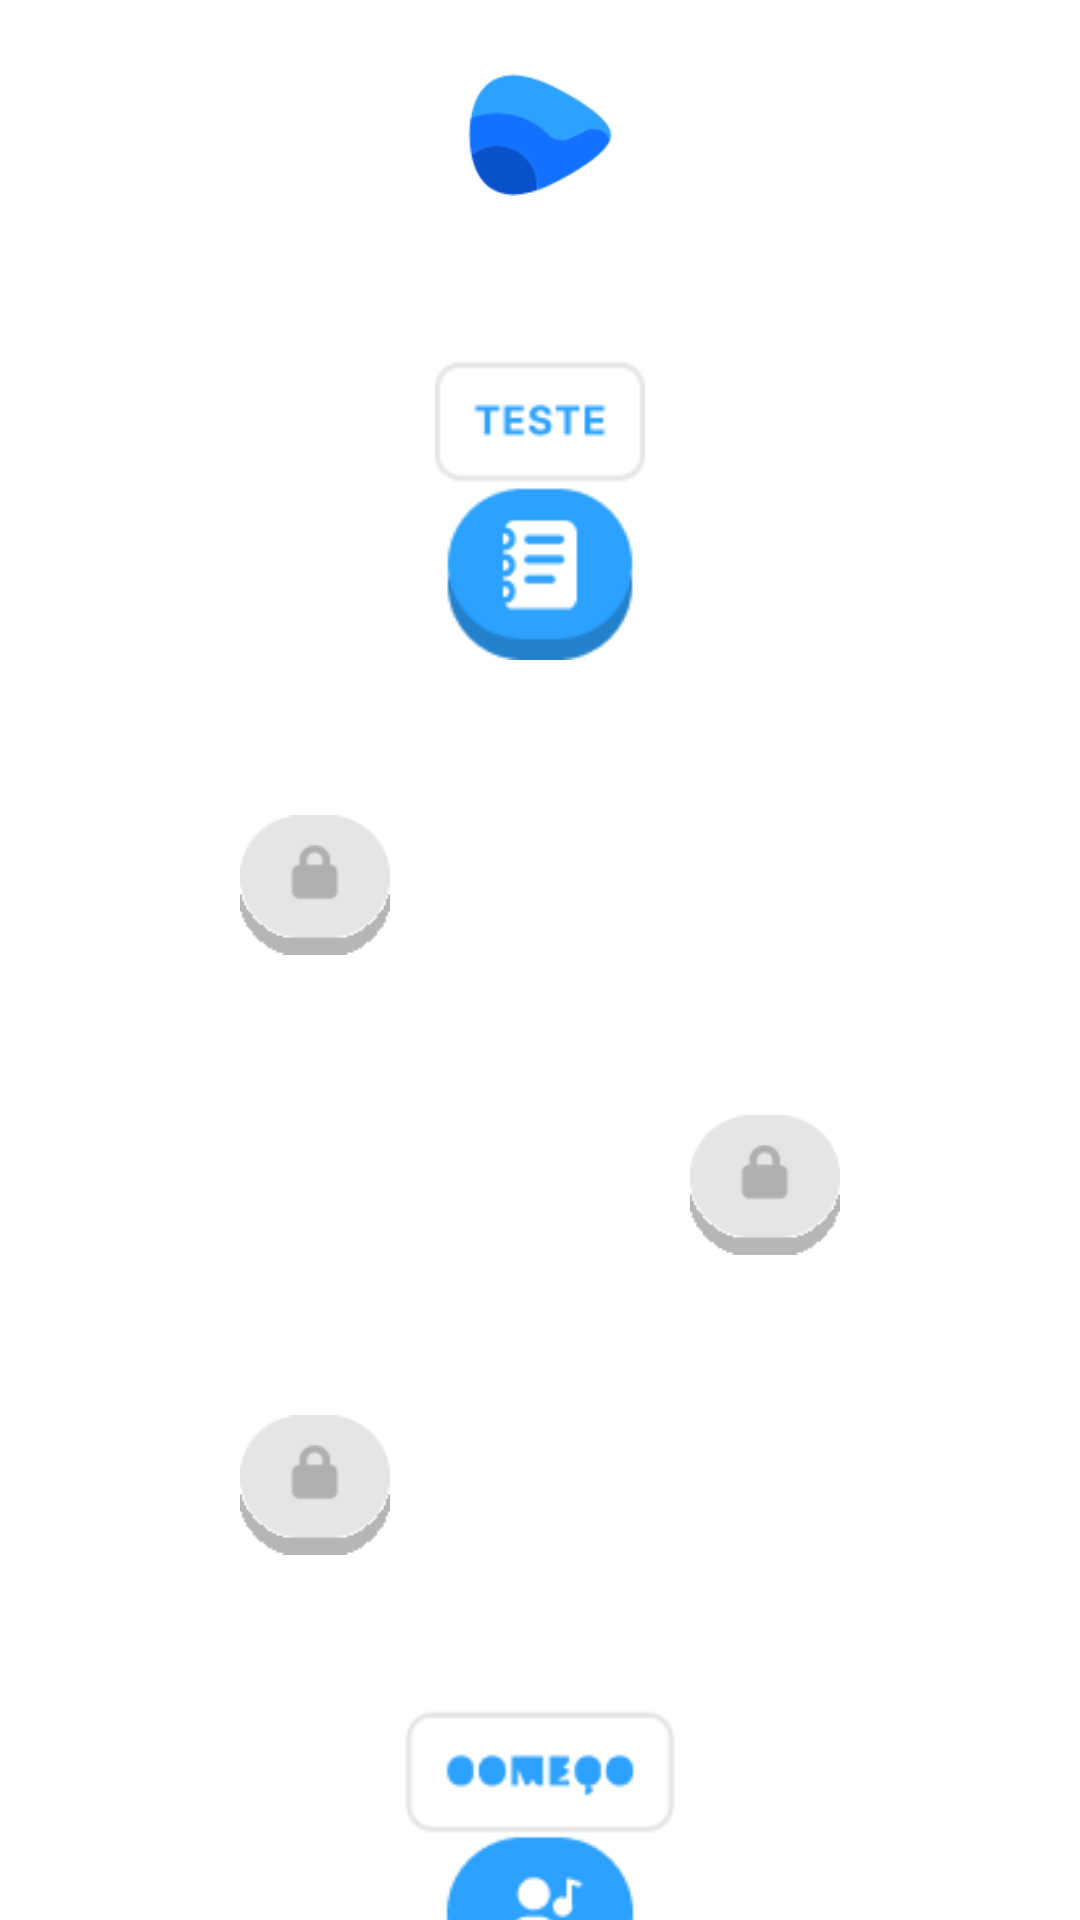

Icons on this 1080w x 1920h Android screen, each with its box as {"x1": x1, "y1": y1, "x2": x2, "y2": y2}:
lock: {"x1": 240, "y1": 815, "x2": 390, "y2": 955}, {"x1": 690, "y1": 1115, "x2": 840, "y2": 1255}, {"x1": 240, "y1": 1415, "x2": 390, "y2": 1555}
